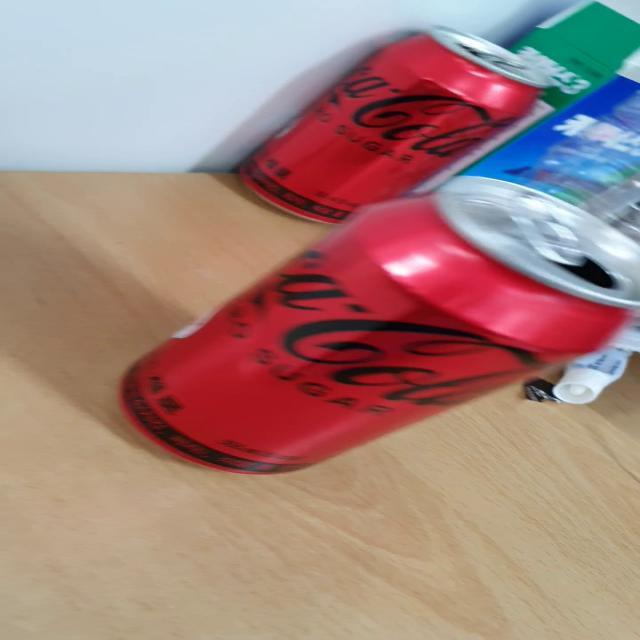coca-cola: (120, 170, 640, 482), (218, 24, 526, 210)
